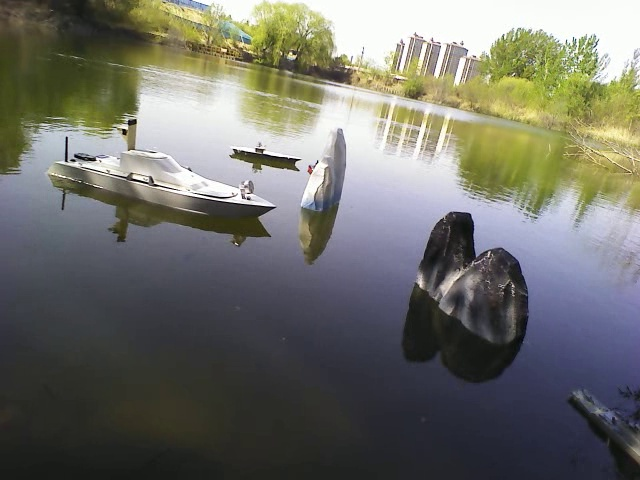aircraft_carrier: (230, 139, 305, 173)
boat: (44, 143, 280, 229)
iceberg: (300, 127, 357, 218)
rock: (415, 205, 535, 346)
warship: (568, 382, 639, 465)
